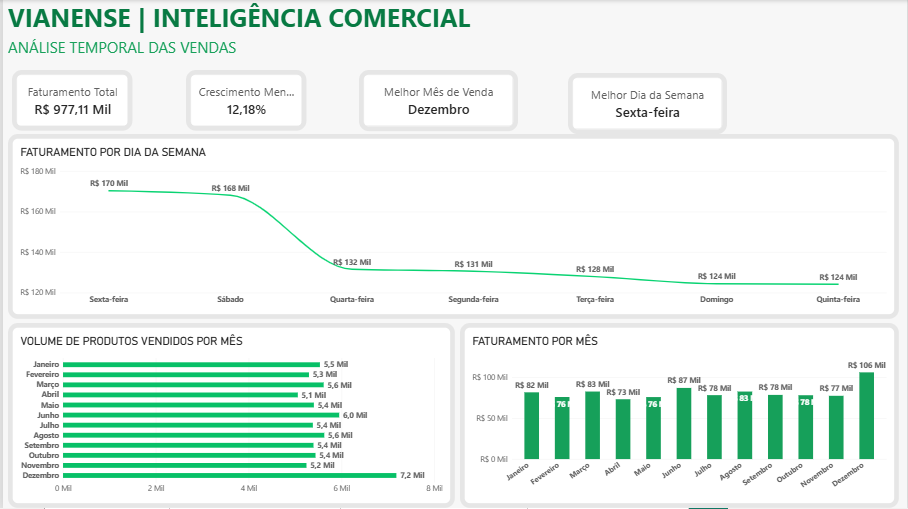

Layout of this report page (visuals, bound fields, positions):
{"tool":"powerbi","page":{"name":"04 – Análise Temporal","canvas":[1920,1080],"ordinal":3},"visuals":[{"type":"textbox","box":[10.8,0,1844.5,105.2],"z":0},{"type":"textbox","box":[10.8,78.2,787.4,105.2],"z":1000},{"type":"cardVisual","fields":{"Data":["tb_Vendas.Faturamento Total"]},"box":[19.7,149.8,256.2,129.4],"z":1001},{"type":"cardVisual","fields":{"Data":["tb_Vendas.Melhor Mês de Venda"]},"box":[757.3,149.2,337.8,129.5],"z":1002},{"type":"cardVisual","fields":{"Data":["tb_Vendas.Crescimento Mensal (%)"]},"box":[389.3,149.8,256,129],"z":1003},{"type":"cardVisual","fields":{"Data":["tb_Vendas.Melhor Dia da Semana"]},"box":[1202.1,154.8,337.8,129.5],"z":1004},{"type":"lineChart","title":"FATURAMENTO POR DIA DA SEMANA","fields":{"Category":["tb_Calendario.Dia_Semana"],"Y":["tb_Vendas.Faturamento Total"]},"box":[10.6,284.9,1894.3,393.3],"z":1005},{"type":"columnChart","title":"FATURAMENTO POR MÊS","fields":{"Category":["tb_Calendario.Mes"],"Y":["tb_Vendas.Faturamento Total"]},"box":[971.6,686.7,933.3,393.3],"z":1006},{"type":"barChart","title":"VOLUME DE PRODUTOS VENDIDOS POR MÊS","fields":{"Category":["tb_Calendario.Mes"],"Y":["tb_Vendas.Quantidade de Itens"]},"box":[10.6,686.7,950.3,393.3],"z":1007}]}

Visuals, with their boxes in screenshot pixels (x1, y1, x2, y2), scaled from the page's 1920x1080 canvas onto the 908x509 screenshot:
textbox: <box>5,0,877,50</box>
textbox: <box>5,37,377,86</box>
cardVisual - tb_Vendas.Faturamento Total: <box>9,71,130,132</box>
cardVisual - tb_Vendas.Melhor Mês de Venda: <box>358,70,518,131</box>
cardVisual - tb_Vendas.Crescimento Mensal (%): <box>184,71,305,131</box>
cardVisual - tb_Vendas.Melhor Dia da Semana: <box>568,73,728,134</box>
"FATURAMENTO POR DIA DA SEMANA" lineChart: <box>5,134,901,320</box>
"FATURAMENTO POR MÊS" columnChart: <box>459,324,901,508</box>
"VOLUME DE PRODUTOS VENDIDOS POR MÊS" barChart: <box>5,324,454,508</box>
